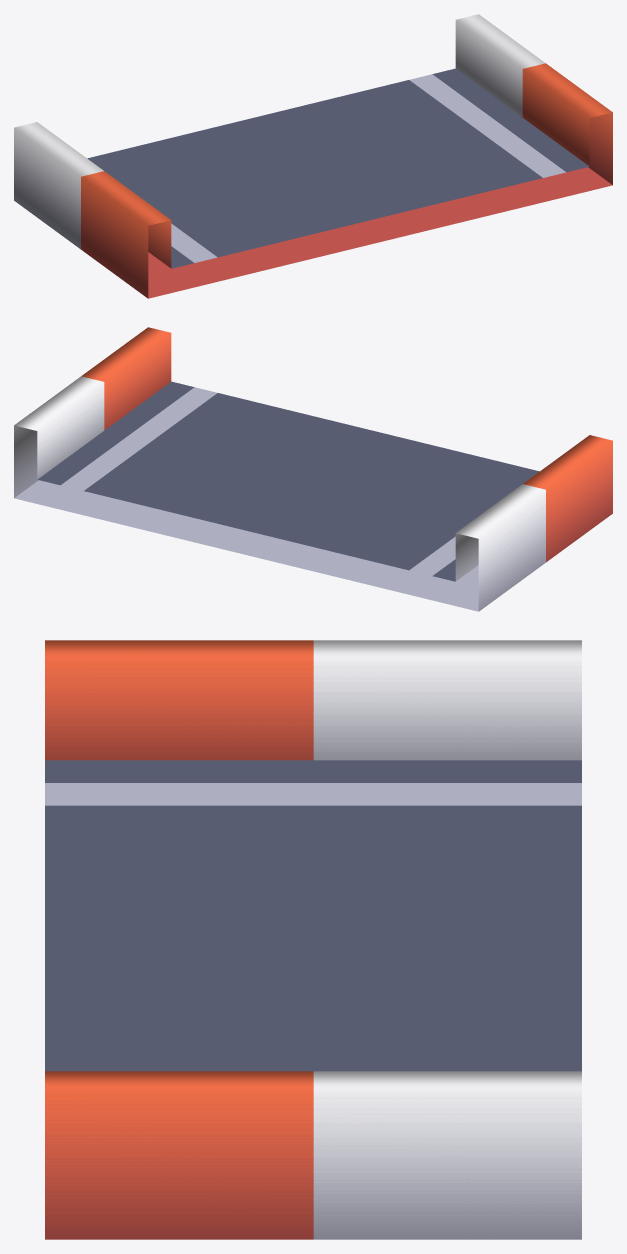
The model's file is track-road-wide.glb.
3 views of the same model, one above another, from view 1: azimuth 30°, elevation 25°; view 2: azimuth 150°, elevation 25°; view 3: azimuth 270°, elevation 25° (orthographic). The views are drawn at different scales.
Parts seen in each view (by area): view 1: track-road-wide; view 2: track-road-wide; view 3: track-road-wide.
Boxes of the visible parts, x1,y1,x2,y2 form: track-road-wide: [14, 14, 612, 298]; track-road-wide: [14, 327, 612, 611]; track-road-wide: [45, 640, 581, 1239].
Bounding box in the file's own units: 6 × 0.9 × 3.
Materials: 1 (1 with a texture image).
